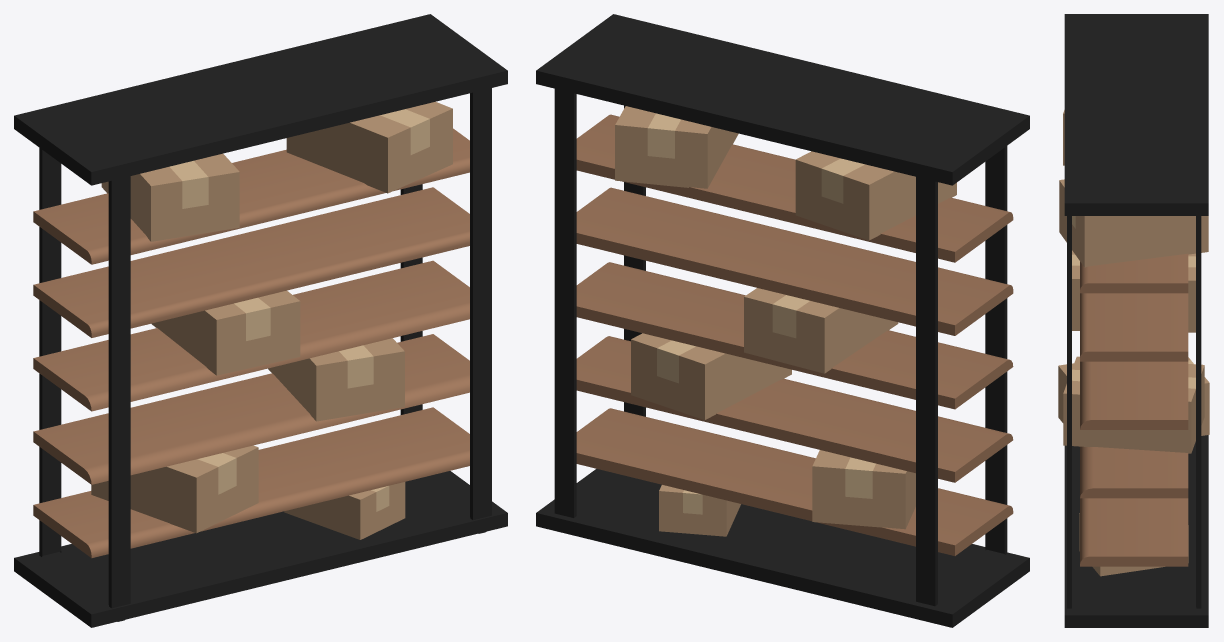
The model's file is Bookshelf.fbx.
The picture shows the model from 3 angles, left to right: view 1: azimuth 30°, elevation 25°; view 2: azimuth 150°, elevation 25°; view 3: azimuth 270°, elevation 25°; orthographic projection. The views are drawn at different scales.
Visible parts, largest first — view 1: Bookshelf, Parcel-2, Parcel-5, Parcel-3, Parcel-1, Parcel-4, Parcel-6; view 2: Bookshelf, Parcel-4, Parcel-1, Parcel-3, Parcel-2, Parcel-5, Parcel-6; view 3: Bookshelf, Parcel-2, Parcel-4, Parcel-3, Parcel-5, Parcel-6.
Part boxes in pixels (box(x1,y1,x2,y2)): Bookshelf: box(14, 14, 507, 627); Parcel-2: box(286, 101, 452, 193); Parcel-5: box(91, 445, 258, 533); Parcel-3: box(151, 290, 300, 375); Parcel-1: box(101, 153, 239, 241); Parcel-4: box(268, 338, 404, 421); Parcel-6: box(284, 482, 405, 539); Bookshelf: box(536, 14, 1029, 627); Parcel-4: box(631, 333, 791, 419); Parcel-1: box(795, 151, 956, 240); Parcel-3: box(744, 288, 898, 373); Parcel-2: box(615, 106, 738, 188); Parcel-5: box(812, 450, 915, 529); Parcel-6: box(659, 485, 740, 536); Bookshelf: box(1064, 14, 1208, 627); Parcel-2: box(1059, 179, 1208, 267); Parcel-4: box(1063, 356, 1204, 453); Parcel-3: box(1072, 250, 1195, 332); Parcel-5: box(1058, 357, 1209, 435); Parcel-6: box(1079, 513, 1188, 576).
Size of the model in its own units: 2.17 by 2.28 by 0.7328.
